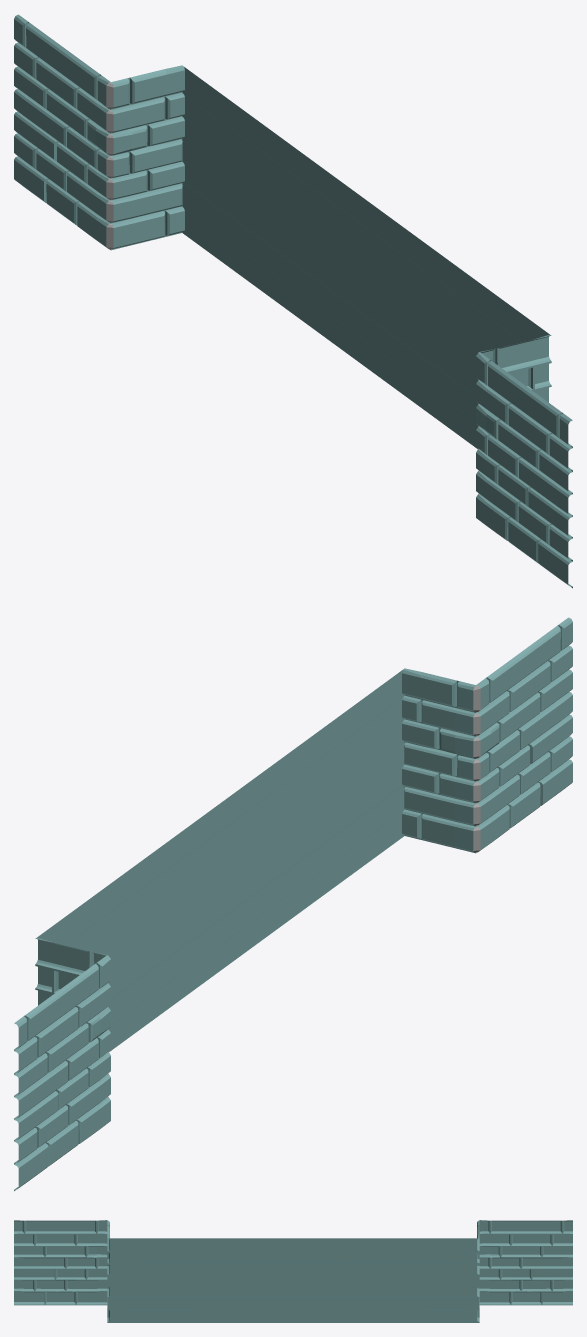
File: sm_tile_waterfalltile_frontwwall.fbx
The picture shows the model from 3 angles, top to bottom: view 1: azimuth 30°, elevation 25°; view 2: azimuth 150°, elevation 25°; view 3: azimuth 270°, elevation 25°; orthographic projection. The views are drawn at different scales.
Parts seen in each view (by area): view 1: WitchGameWaterfallTiles_2_27_20:Waterfall_Vertical; view 2: WitchGameWaterfallTiles_2_27_20:Waterfall_Vertical; view 3: WitchGameWaterfallTiles_2_27_20:Waterfall_Vertical.
Boxes of the visible parts, x1,y1,x2,y2 form: WitchGameWaterfallTiles_2_27_20:Waterfall_Vertical: (14,14,572,588); WitchGameWaterfallTiles_2_27_20:Waterfall_Vertical: (14,617,572,1191); WitchGameWaterfallTiles_2_27_20:Waterfall_Vertical: (14,1220,572,1322).
Size of the model in its own units: 0.9524 by 2.01 by 11.99.
